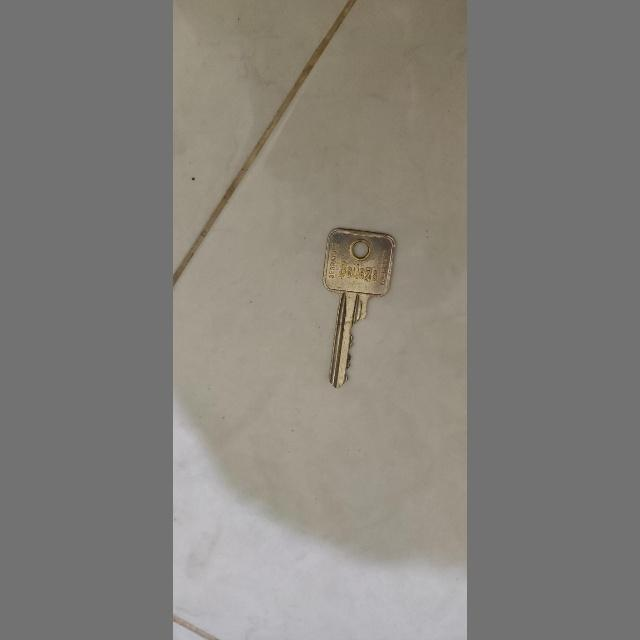Keys: (321, 220, 404, 398)
